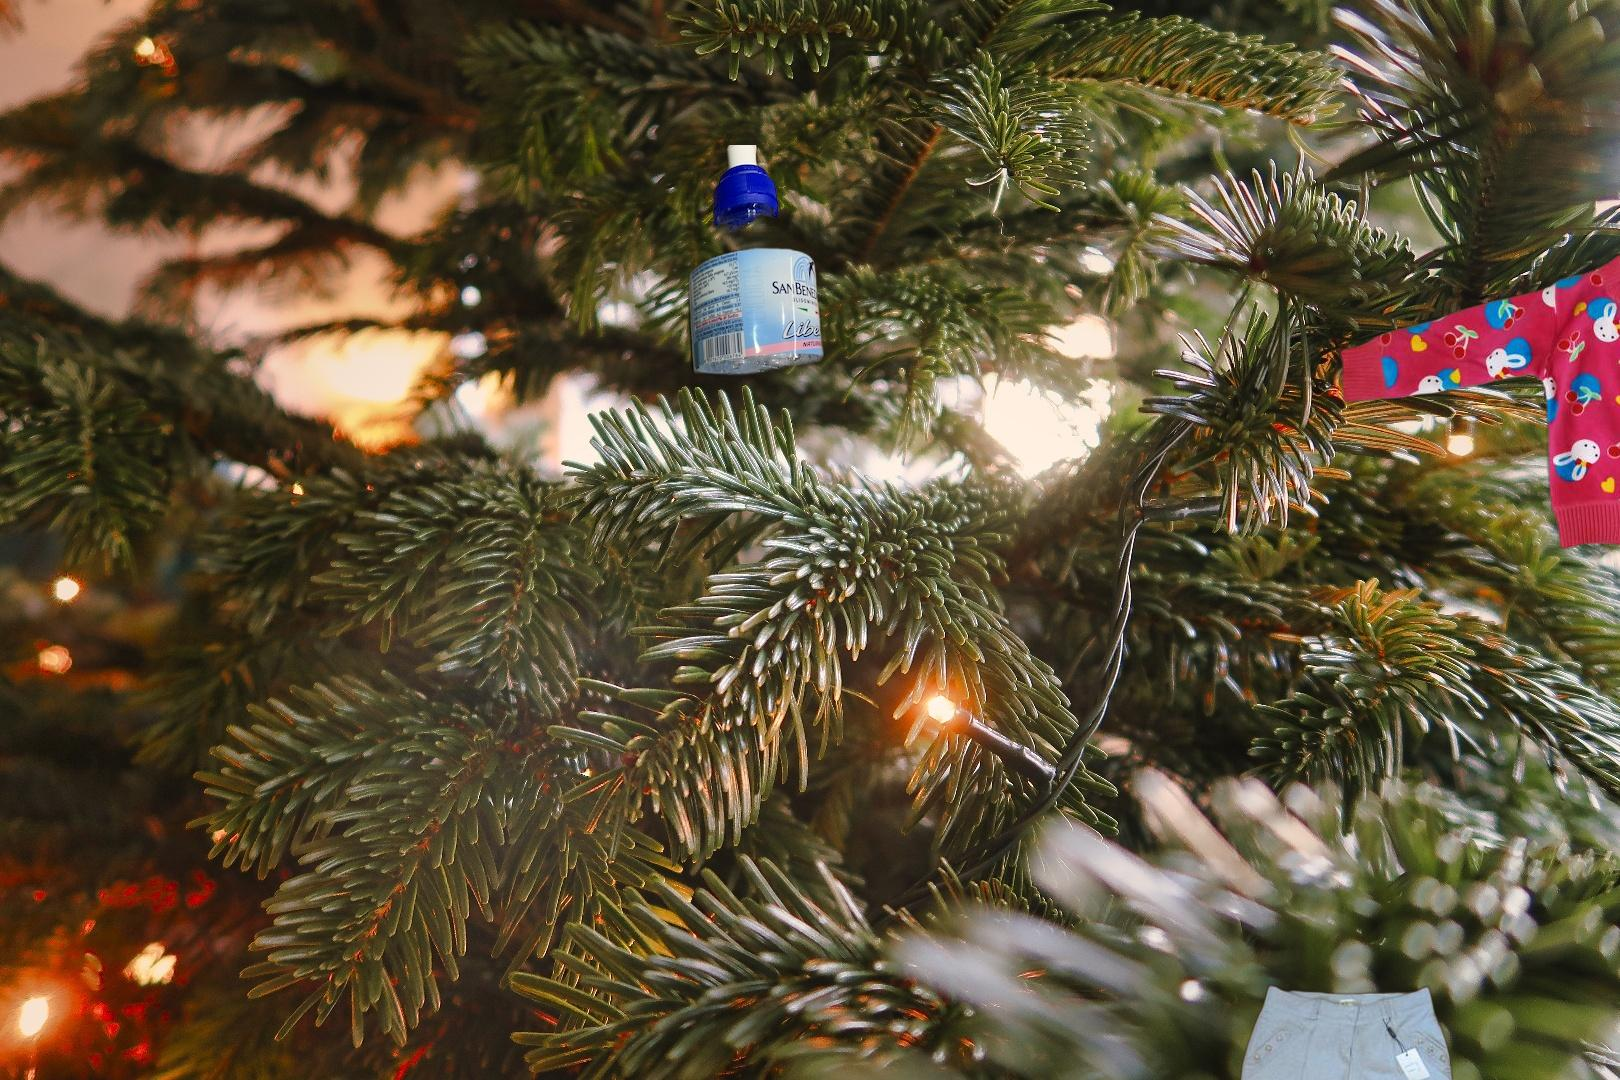battery: (210, 955, 600, 1080)
clothes: (1333, 251, 1620, 558), (1173, 980, 1518, 1080)
plastic-bottles: (597, 145, 880, 642)
